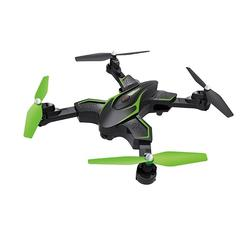drone: (24, 49, 235, 186)
